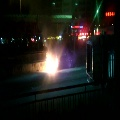fire: (43, 52, 58, 74)
